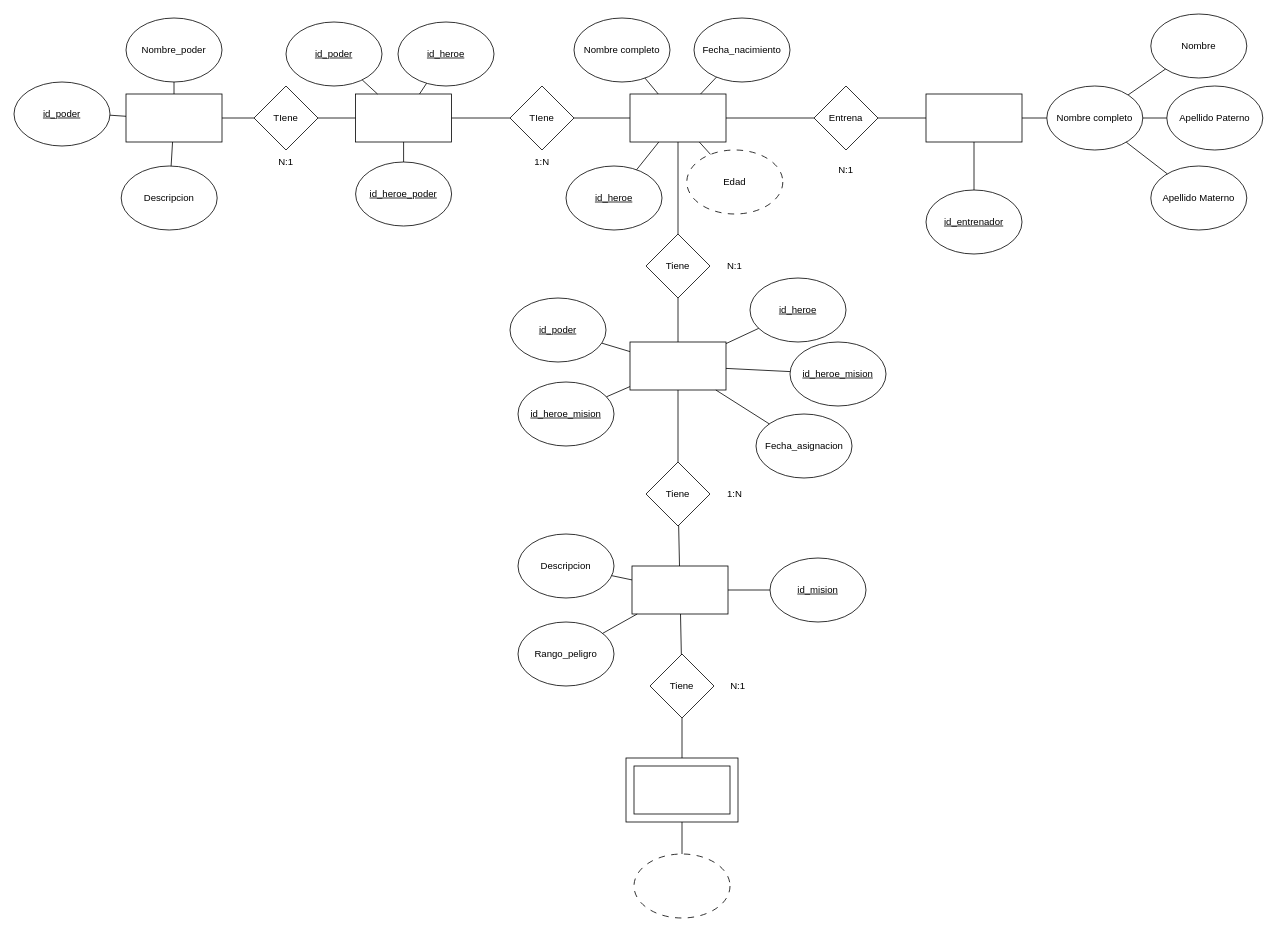
Image size: 1277x932. Some labels were removed from this diagram. Each missing label, with the box of its shape:
Entrenador: (925, 93, 1022, 142)
Heroe: (629, 93, 726, 142)
Heroe_mision: (629, 341, 726, 390)
Heroe_poder: (355, 93, 452, 142)
Historial_misiones: (633, 765, 730, 814)
Mision: (631, 565, 728, 614)
numero_mision: (633, 853, 730, 918)
Poder: (125, 93, 222, 142)
